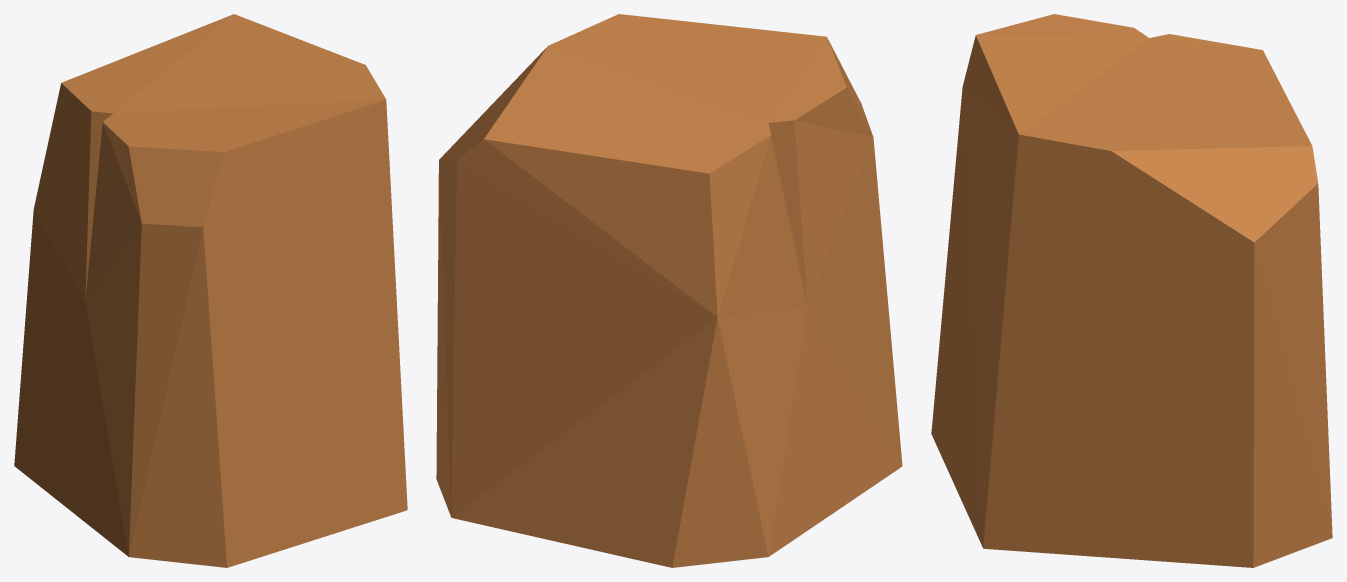
File: Rubble_3.fbx
3 renders of one model, left to right at view 1: azimuth 30°, elevation 25°; view 2: azimuth 150°, elevation 25°; view 3: azimuth 270°, elevation 25°, orthographic. The views are drawn at different scales.
Parts seen in each view (by area): view 1: 立方体.033; view 2: 立方体.033; view 3: 立方体.033.
Part boxes in pixels (x1=…): 立方体.033: x1=14, y1=14, x2=407, y2=567; 立方体.033: x1=436, y1=14, x2=902, y2=567; 立方体.033: x1=931, y1=14, x2=1332, y2=567.
Size of the model in its own units: 33.32 by 33.72 by 38.9.
